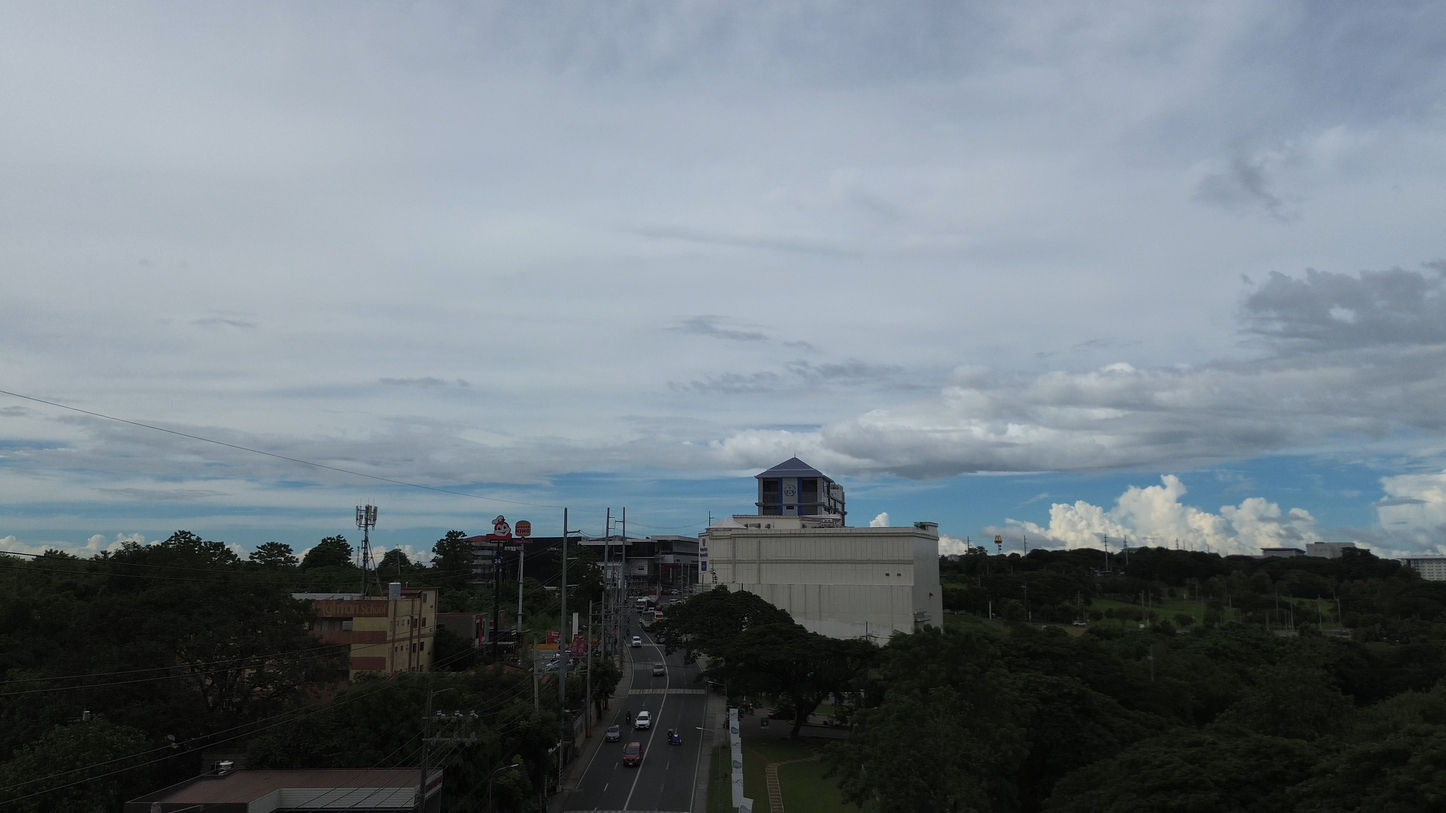car: (606, 725, 621, 742), (652, 663, 666, 676), (1072, 620, 1088, 627)
vehicle: (622, 741, 642, 766), (633, 711, 651, 729), (631, 636, 642, 647)
